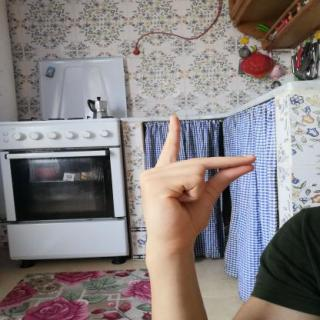TAA: (128, 110, 267, 258)
